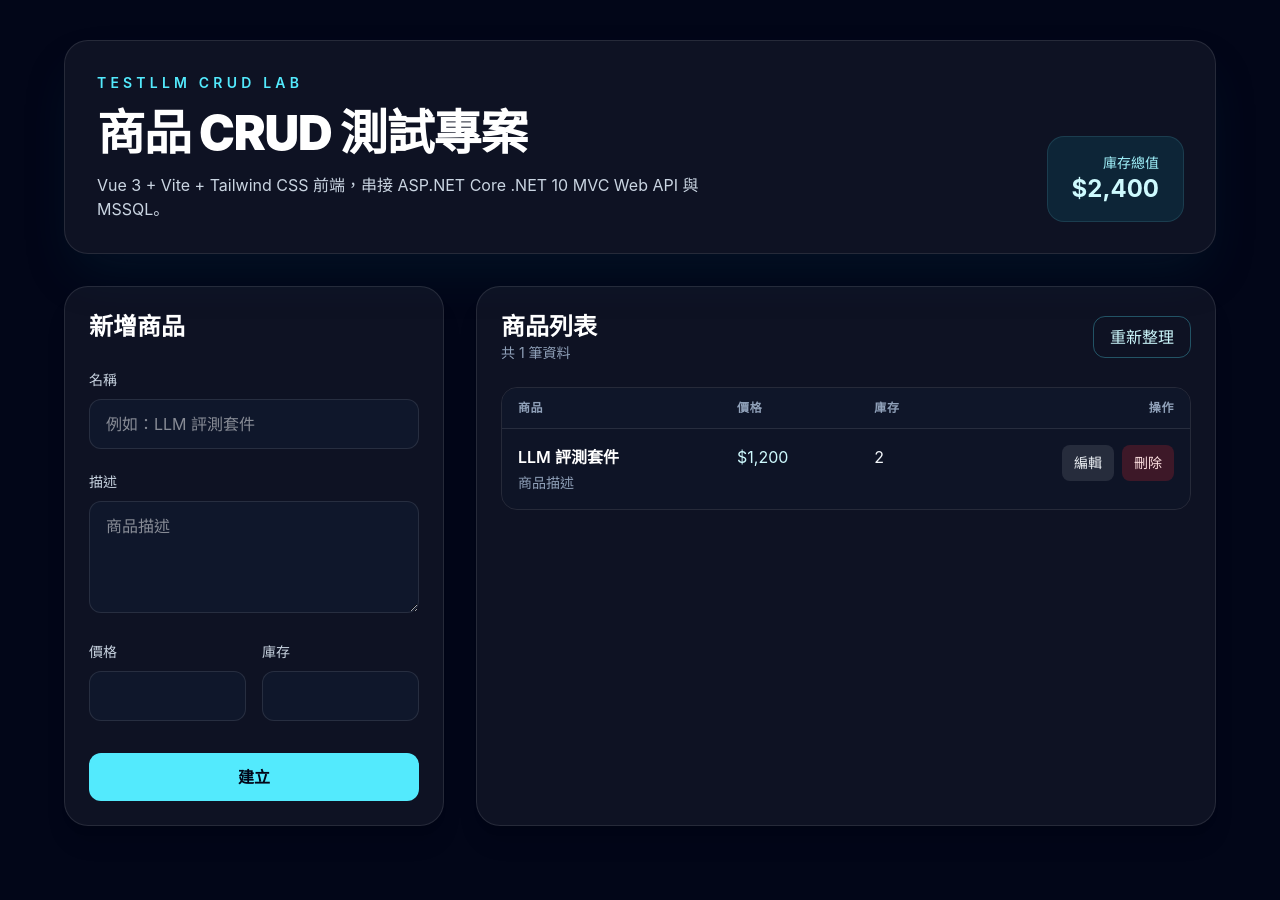
it: App › deletes a product when confirmed and refreshes the list
Click the button "刪除" at x=1148, y=463, box [1122,445,1174,481]
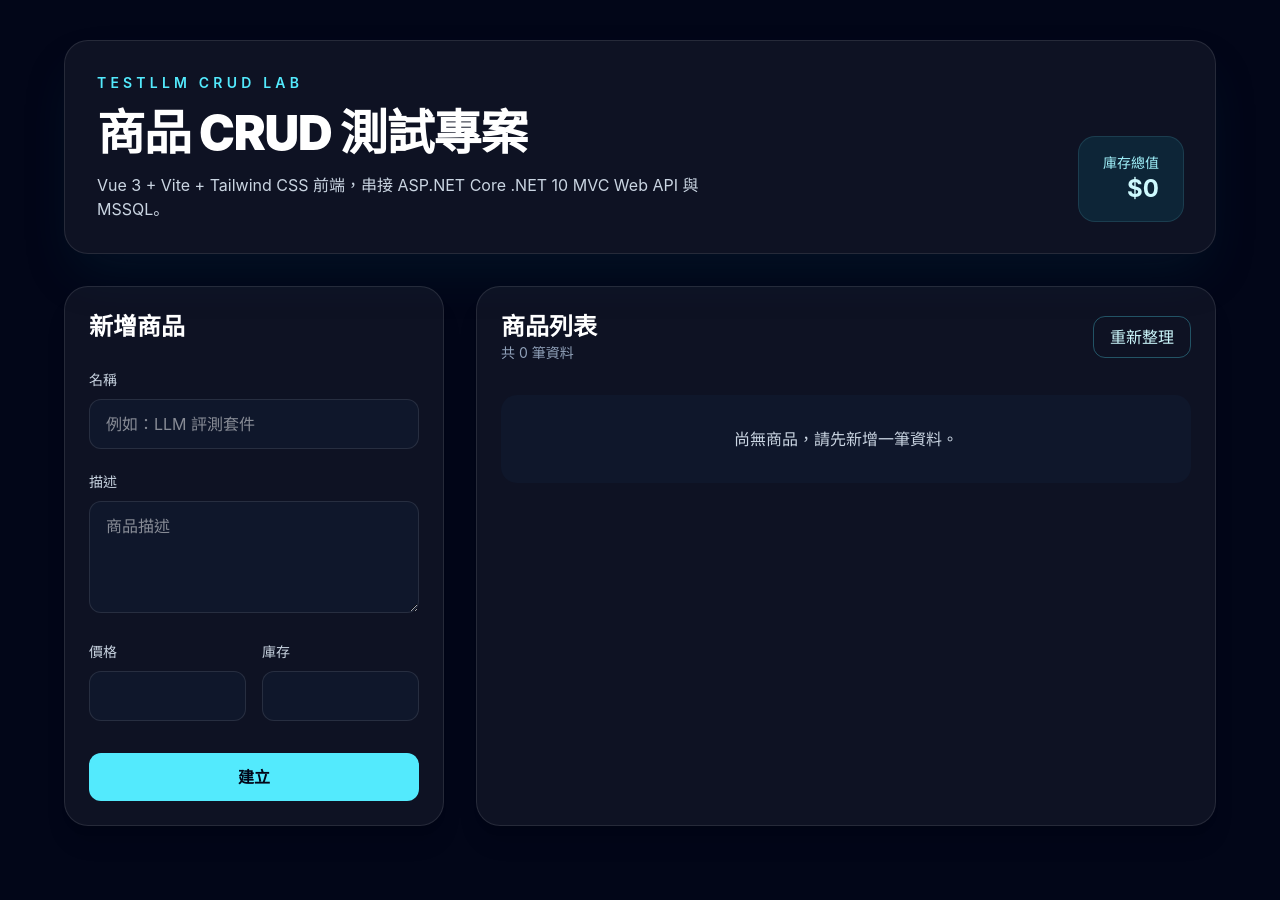
Now the text "尚無商品，請先新增一筆資料。" is shown, box [501,395,1191,483]
